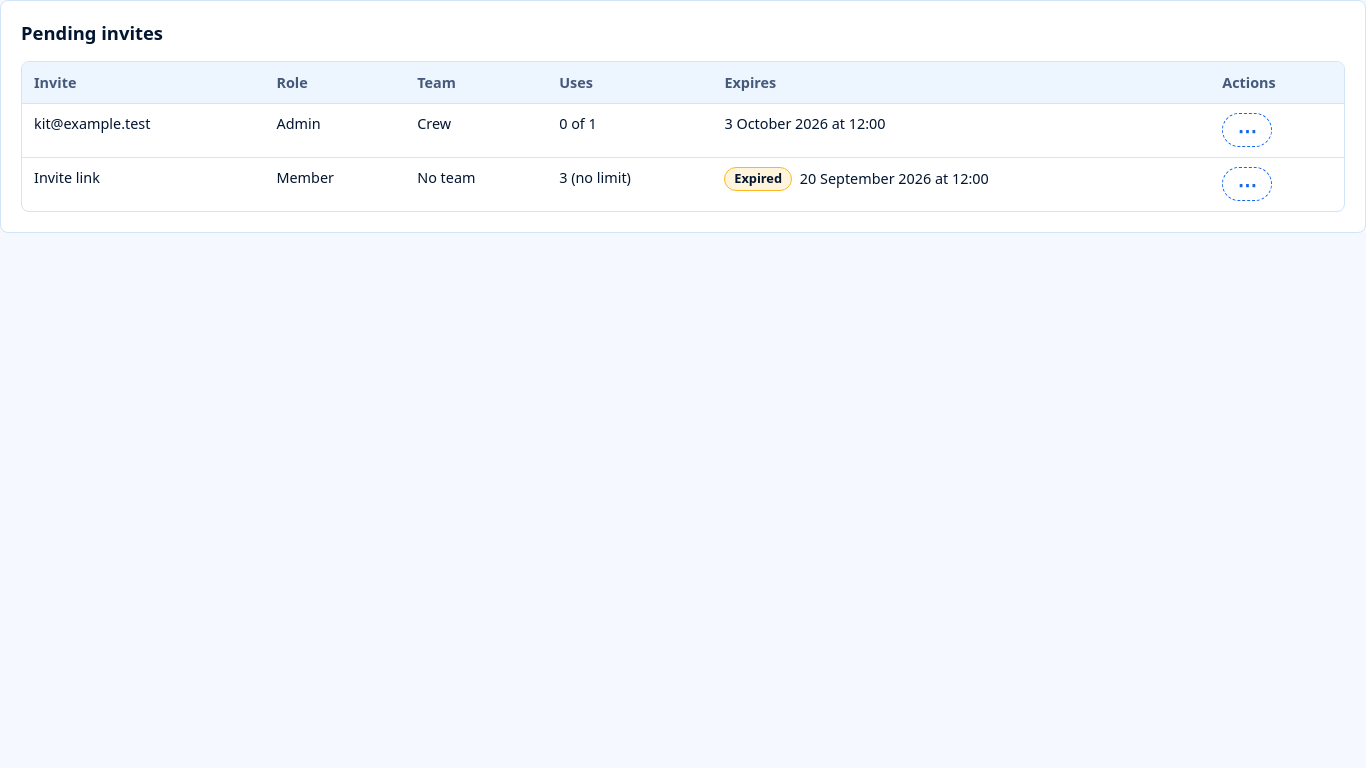
Test: InviteList revoking an invite › keeps the check open with the server's reason when revoking fails
What coordinates should you click on to do the following:
click the button named "Actions for "
I would click on:
 (1247, 130)
Its box is [1222,113,1272,147].
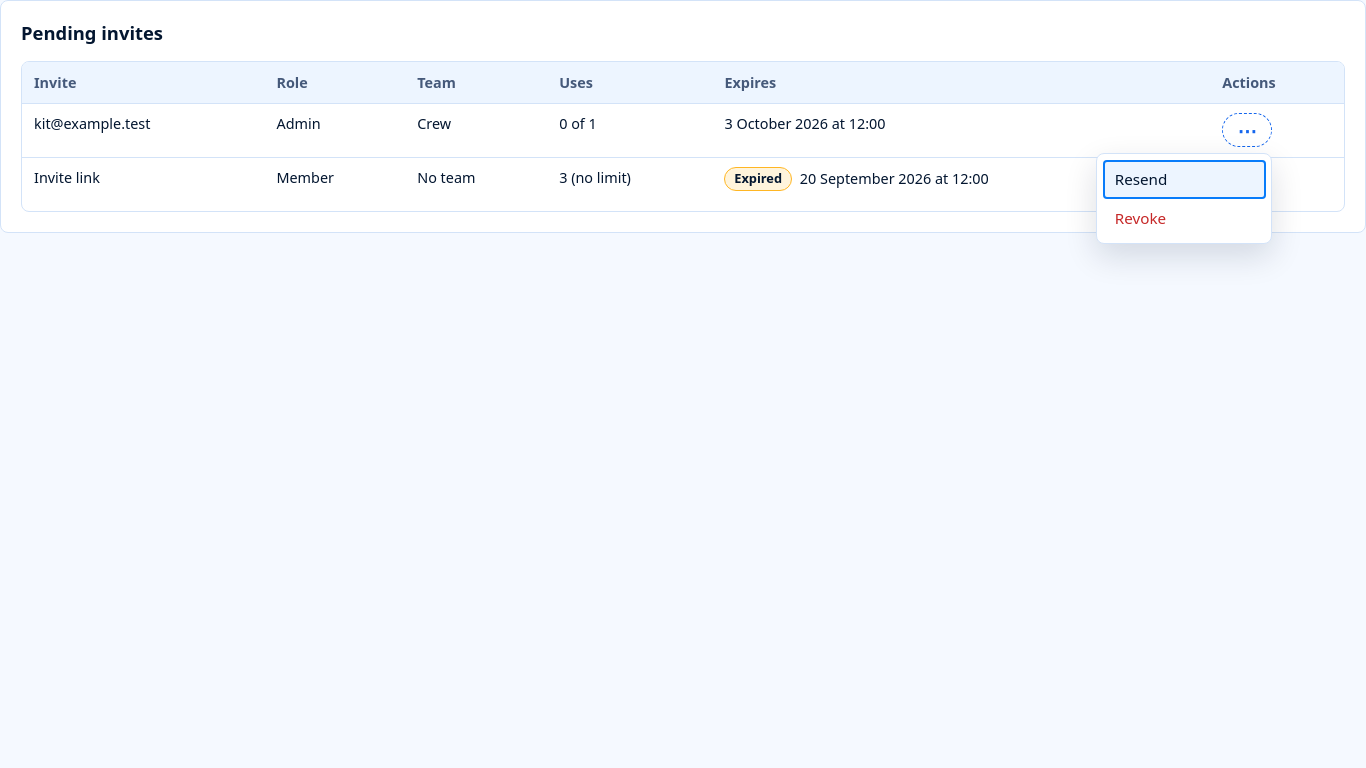
What coordinates should you click on to do the following:
click the menu item "Revoke"
I would click on:
 (1184, 218)
Its box is [1103,199,1266,238].
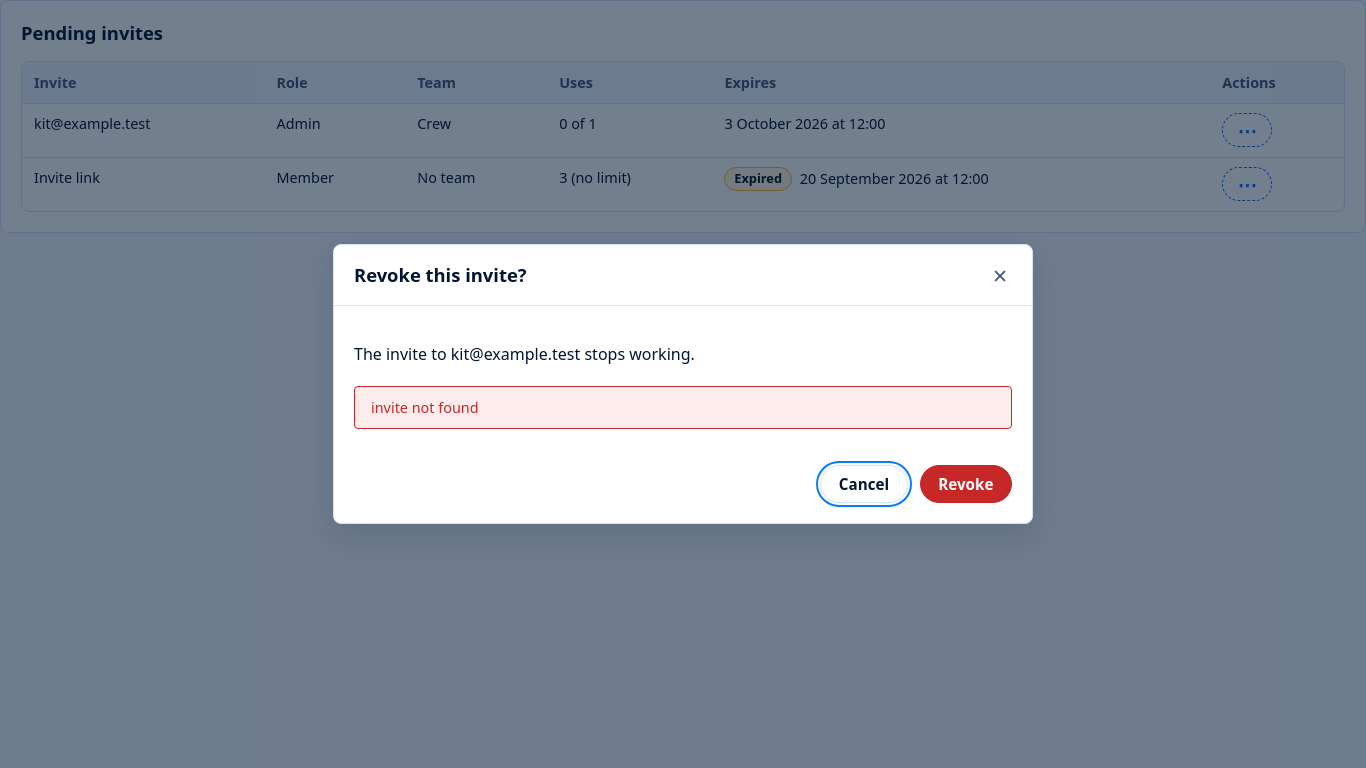
expect the dialog "Revoke this invite?" shows "invite not found": met, box [371,398,478,417]
